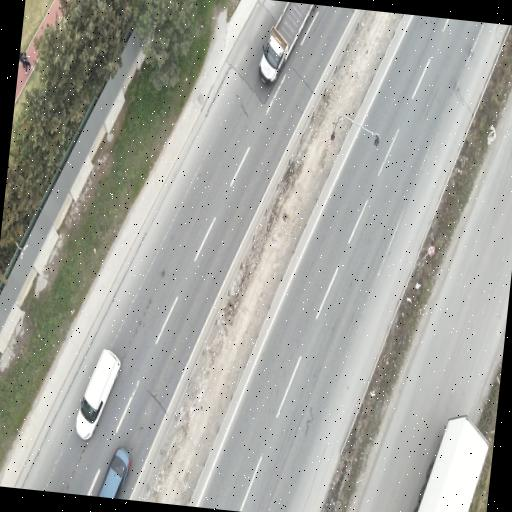car: (76, 350, 120, 439), (98, 448, 131, 498)
person: (19, 51, 32, 74)
truck: (414, 416, 488, 511), (259, 2, 315, 83)
